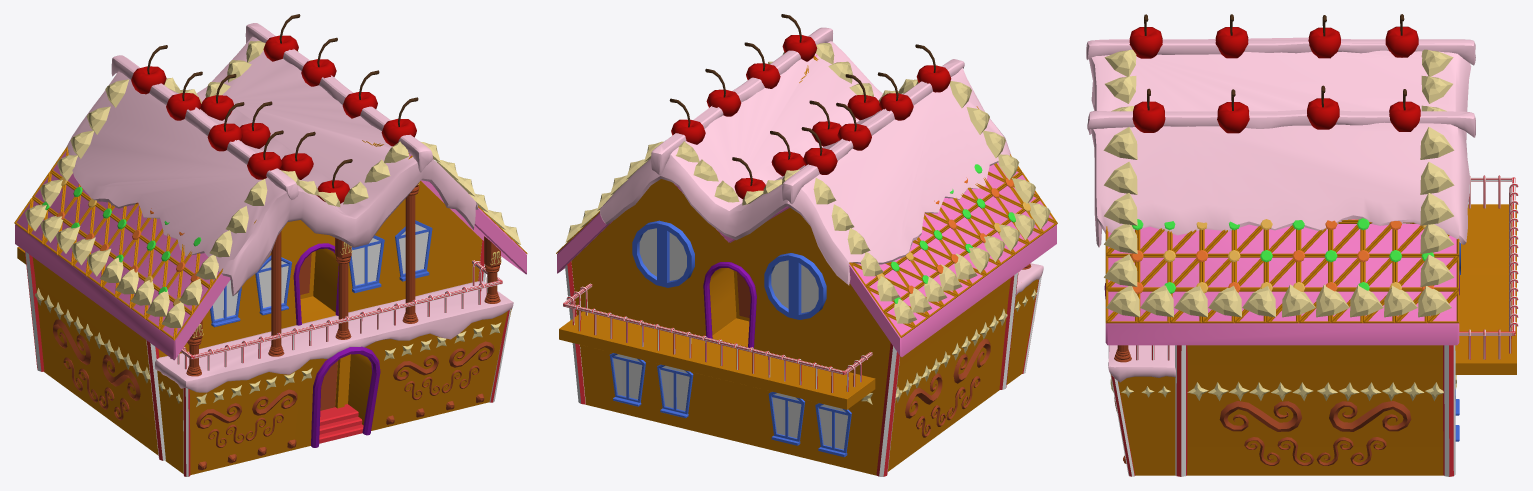
File: candy.fbx
3 views of the same model, side by side, from view 1: azimuth 30°, elevation 25°; view 2: azimuth 150°, elevation 25°; view 3: azimuth 270°, elevation 25° (orthographic). The views are drawn at different scales.
Parts seen in each view (by area): view 1: Cube, Plane, Cube.002, Cherry.005, Cherry.007, Cherry.008, Cherry.002, Cherry.006, Cherry.004, Cherry.001, Cherry.011, Cherry.009 (+3 smaller); view 2: Cube, Plane, Cube.002, Cherry.008, Cherry.005, Cherry.007, Cherry.002, Cherry.006, Cherry.004, Cherry, Cherry.001, Cherry.011 (+3 smaller); view 3: Cube, Plane, Cube.002, Cherry.004, Cherry.002, Cherry.008, Cherry.001, Cherry.007, Cherry.005, Cherry.006, Cherry.011.
Boxes of the visible parts, x1=… form: Cube: x1=14, y1=23, x2=527, y2=476; Plane: x1=25, y1=41, x2=520, y2=327; Cube.002: x1=35, y1=288, x2=501, y2=406; Cherry.005: x1=207, y1=102, x2=244, y2=151; Cherry.007: x1=131, y1=45, x2=167, y2=94; Cherry.008: x1=247, y1=130, x2=283, y2=179; Cherry.002: x1=301, y1=37, x2=337, y2=86; Cherry.006: x1=166, y1=71, x2=202, y2=120; Cherry.004: x1=381, y1=97, x2=418, y2=146; Cherry.001: x1=342, y1=70, x2=379, y2=118; Cherry.011: x1=263, y1=14, x2=300, y2=61; Cherry.009: x1=280, y1=131, x2=315, y2=179; Cube: x1=556, y1=27, x2=1057, y2=476; Plane: x1=565, y1=43, x2=1050, y2=323; Cube.002: x1=861, y1=289, x2=1036, y2=404; Cherry.008: x1=915, y1=44, x2=951, y2=92; Cherry.005: x1=877, y1=72, x2=913, y2=120; Cherry.007: x1=801, y1=127, x2=837, y2=174; Cherry.002: x1=705, y1=68, x2=741, y2=116; Cherry.006: x1=836, y1=102, x2=871, y2=150; Cherry.004: x1=781, y1=14, x2=817, y2=61; Cherry: x1=845, y1=74, x2=880, y2=120; Cherry.001: x1=744, y1=42, x2=780, y2=88; Cherry.011: x1=669, y1=98, x2=705, y2=144; Cube: x1=1086, y1=37, x2=1518, y2=476; Plane: x1=1103, y1=49, x2=1454, y2=317; Cube.002: x1=1110, y1=375, x2=1456, y2=400; Cherry.004: x1=1132, y1=88, x2=1165, y2=132; Cherry.002: x1=1307, y1=85, x2=1339, y2=129; Cherry.008: x1=1129, y1=14, x2=1162, y2=58; Cherry.001: x1=1217, y1=89, x2=1249, y2=133; Cherry.007: x1=1385, y1=14, x2=1418, y2=57; Cherry.005: x1=1215, y1=14, x2=1248, y2=58; Cherry.006: x1=1308, y1=15, x2=1340, y2=58; Cherry.011: x1=1389, y1=89, x2=1420, y2=131.
Bounding box in the file's own units: 400 × 343 × 384.
